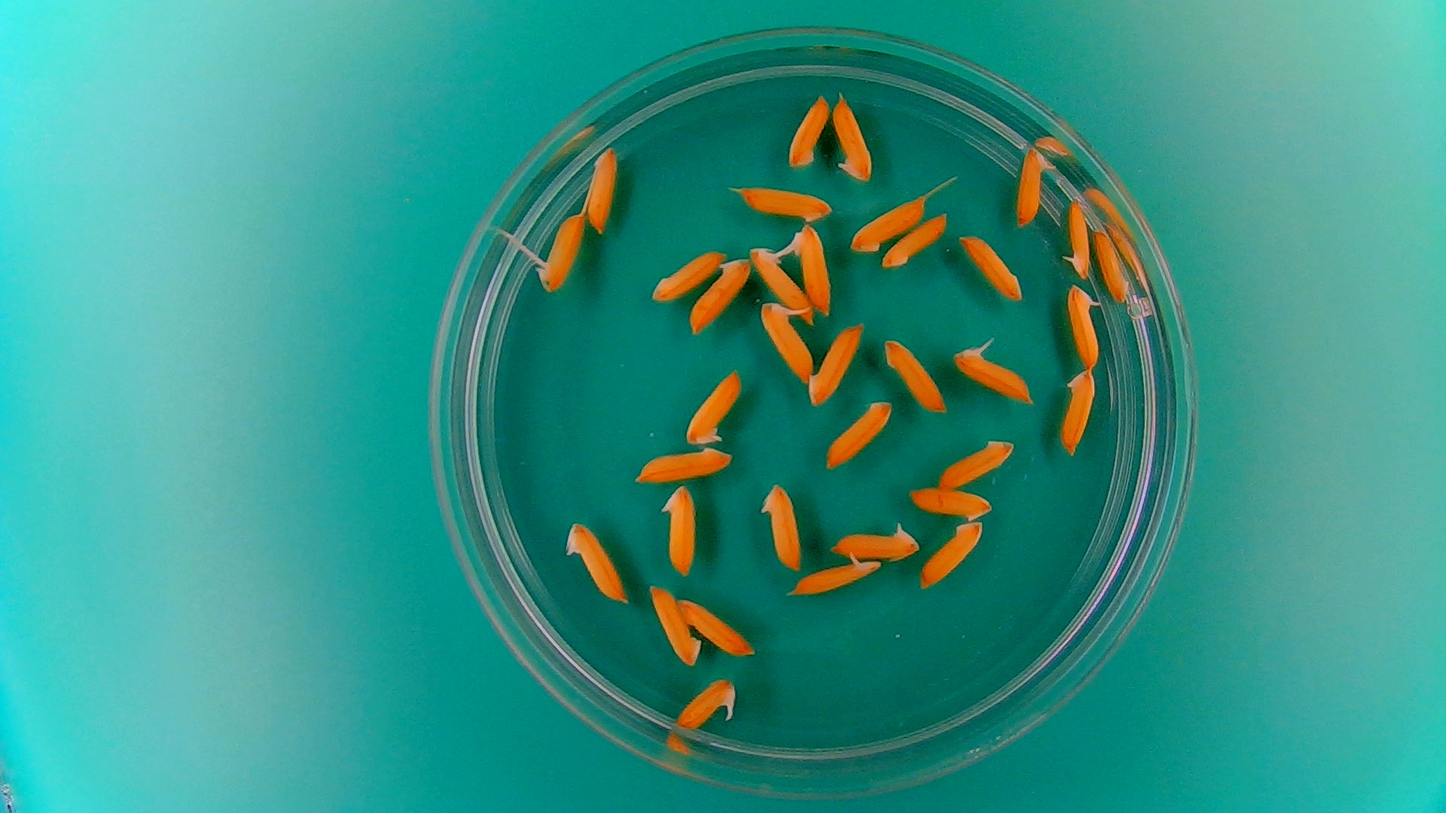no: (563, 518, 629, 607), (689, 254, 755, 335), (808, 319, 867, 409), (918, 517, 987, 592), (882, 336, 948, 414), (679, 594, 758, 659), (824, 397, 895, 469), (683, 366, 744, 449), (647, 581, 702, 668), (956, 232, 1023, 303), (936, 434, 1017, 491), (649, 246, 728, 304), (758, 480, 805, 575), (880, 209, 952, 270), (633, 444, 733, 486), (658, 480, 700, 578), (850, 197, 923, 253), (735, 184, 833, 225), (831, 91, 874, 184), (783, 90, 830, 169), (1059, 366, 1099, 457), (583, 142, 621, 235), (906, 484, 993, 522), (1092, 230, 1135, 304)
yes: (745, 239, 816, 319), (950, 341, 1036, 400), (532, 208, 588, 294), (758, 299, 814, 382), (786, 224, 833, 315), (787, 555, 884, 598), (826, 519, 920, 562), (674, 674, 741, 732), (1064, 280, 1105, 372), (1014, 145, 1055, 228), (1063, 194, 1094, 281)
